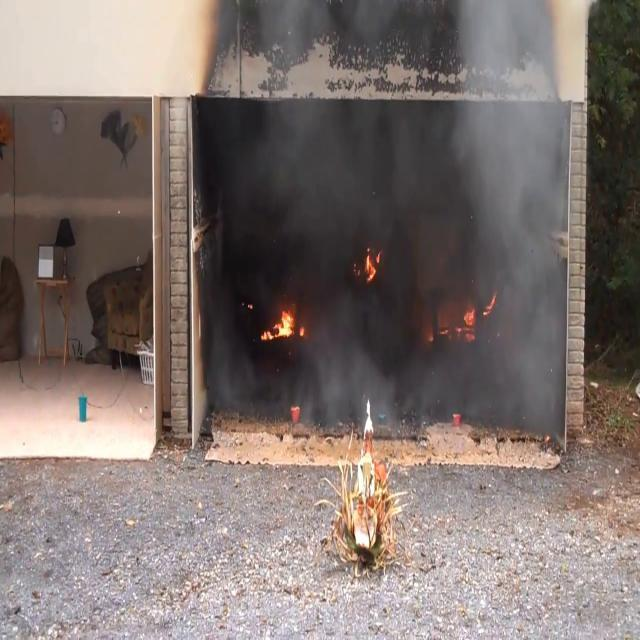Fire: (262, 304, 300, 345), (363, 241, 382, 287), (461, 302, 477, 342)
Smoke: (205, 100, 571, 425)
